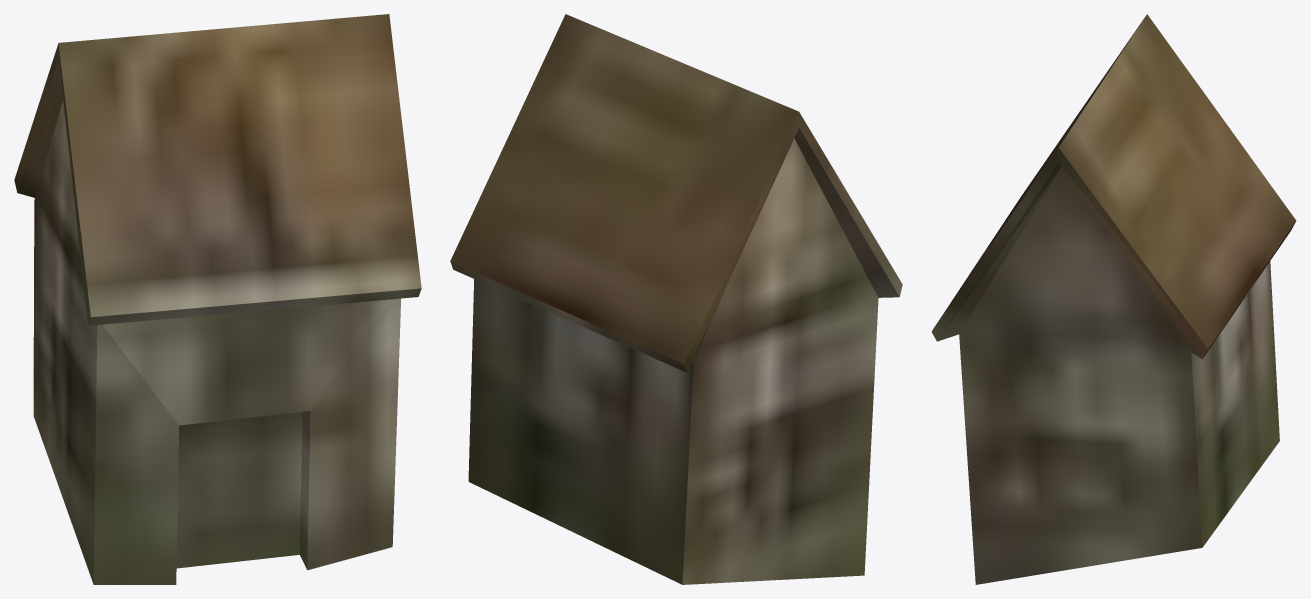
File: house_09_game_lod1.glb
3 renders of one model, left to right at view 1: azimuth 30°, elevation 25°; view 2: azimuth 150°, elevation 25°; view 3: azimuth 270°, elevation 25°, orthographic. The views are drawn at different scales.
Parts seen in each view (by area): view 1: geometry_0; view 2: geometry_0; view 3: geometry_0.
Part boxes in pixels (x1,y1,x2,y2): geometry_0: [14, 14, 421, 584]; geometry_0: [450, 14, 902, 584]; geometry_0: [931, 14, 1296, 584].
Bounding box in the file's own units: 5.05 × 6.81 × 4.83.
Materials: 1 (1 with a texture image).
